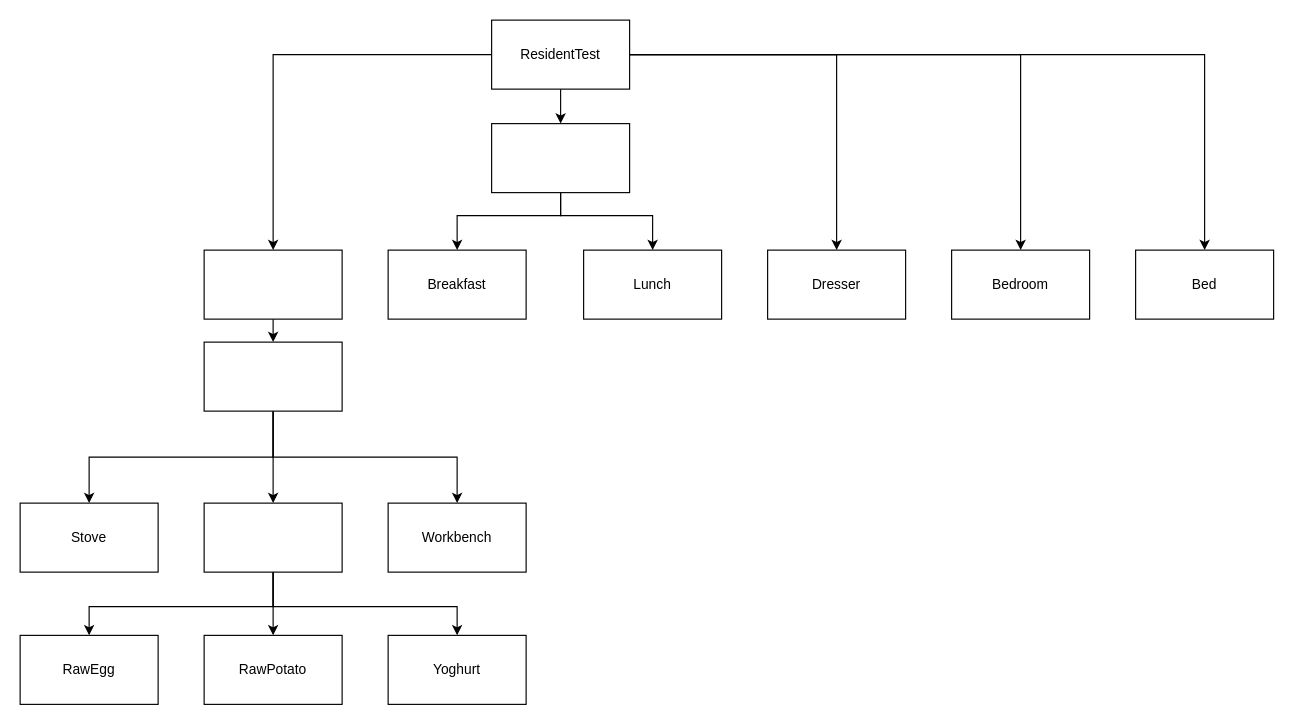
The diagram is 1294 pixels wide and 725 high, and some of its shapes have lost their labels. Here are the shapes that lost their labels. From the top down, the centre of each, then its label:
At (x=560, y=157): "Resident".
At (x=272, y=284): "House".
At (x=272, y=376): "Kitchen".
At (x=272, y=537): "Fridge".
